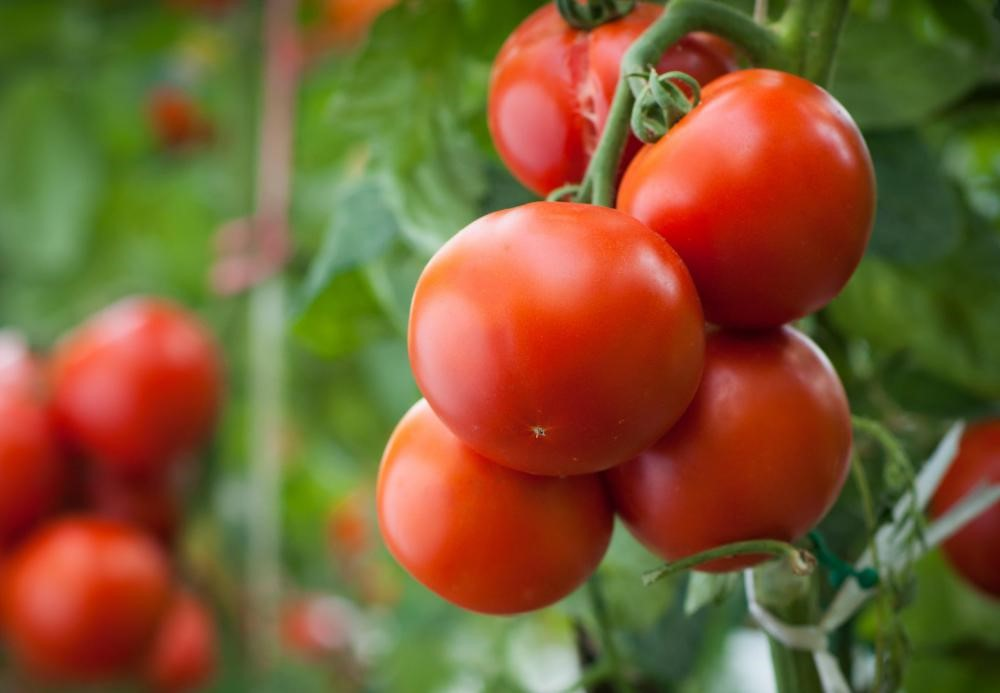stems: (623, 66, 680, 135), (591, 179, 618, 208)
tomato: (407, 202, 706, 476), (614, 70, 875, 328), (610, 325, 851, 570), (376, 396, 613, 616), (493, 1, 752, 202)
